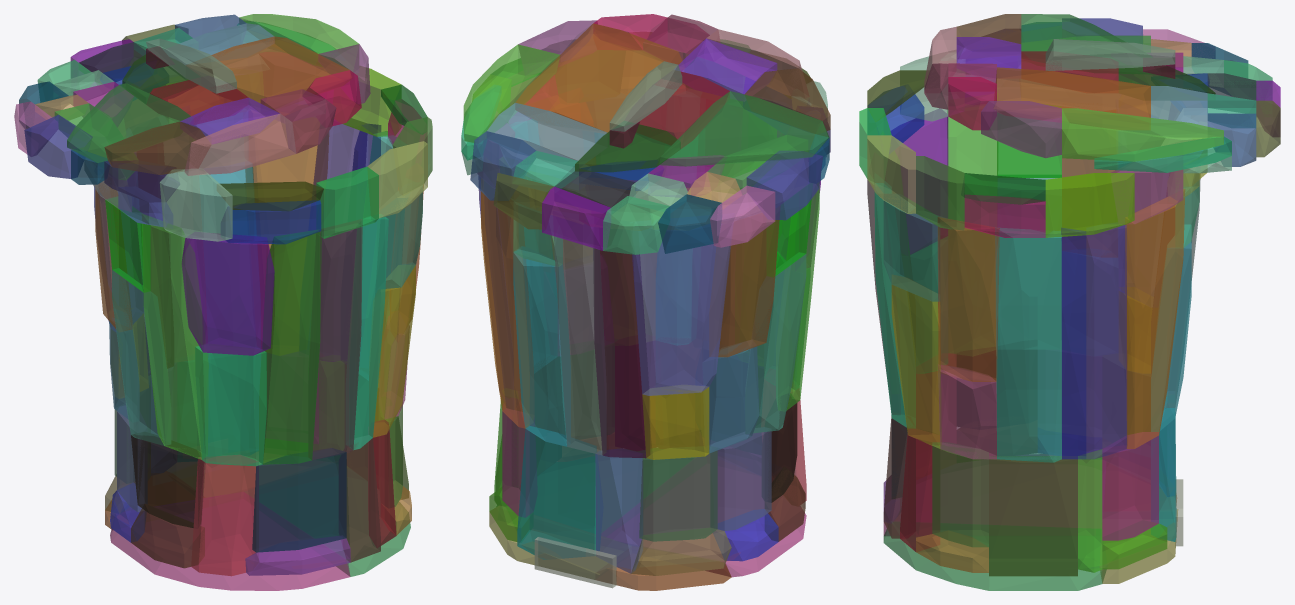
The picture shows the model from 3 angles, left to right: view 1: azimuth 30°, elevation 25°; view 2: azimuth 150°, elevation 25°; view 3: azimuth 270°, elevation 25°; orthographic projection. The views are drawn at different scales.
Parts seen in each view (by area): view 1: Shape_IndexedFaceSet.015, Shape_IndexedFaceSet.014, Shape_IndexedFaceSet.007, Shape_IndexedFaceSet.039, Shape_IndexedFaceSet.011, Shape_IndexedFaceSet.036, Shape_IndexedFaceSet.083, Shape_IndexedFaceSet.035, Shape_IndexedFaceSet.062, Shape_IndexedFaceSet.031, Shape_IndexedFaceSet.033, Shape_IndexedFaceSet.040 (+79 smaller); view 2: Shape_IndexedFaceSet.028, Shape_IndexedFaceSet.009, Shape_IndexedFaceSet.023, Shape_IndexedFaceSet.007, Shape_IndexedFaceSet.010, Shape_IndexedFaceSet.026, Shape_IndexedFaceSet.031, Shape_IndexedFaceSet.011, Shape_IndexedFaceSet.003, Shape_IndexedFaceSet.030, Shape_IndexedFaceSet.033, Shape_IndexedFaceSet.059 (+79 smaller); view 3: Shape_IndexedFaceSet.016, Shape_IndexedFaceSet.011, Shape_IndexedFaceSet.007, Shape_IndexedFaceSet.064, Shape_IndexedFaceSet.014, Shape_IndexedFaceSet.033, Shape_IndexedFaceSet.008, Shape_IndexedFaceSet.038, Shape_IndexedFaceSet.012, Shape_IndexedFaceSet.023, Shape_IndexedFaceSet.041, Shape_IndexedFaceSet.057 (+77 smaller).
Boxes of the visible parts, x1=… form: Shape_IndexedFaceSet.015: x1=259, y1=229, x2=321, y2=464; Shape_IndexedFaceSet.014: x1=142, y1=214, x2=208, y2=459; Shape_IndexedFaceSet.007: x1=110, y1=493, x2=350, y2=590; Shape_IndexedFaceSet.039: x1=308, y1=219, x2=362, y2=460; Shape_IndexedFaceSet.011: x1=245, y1=110, x2=328, y2=355; Shape_IndexedFaceSet.036: x1=181, y1=232, x2=274, y2=355; Shape_IndexedFaceSet.083: x1=252, y1=448, x2=346, y2=552; Shape_IndexedFaceSet.035: x1=195, y1=344, x2=266, y2=466; Shape_IndexedFaceSet.062: x1=191, y1=455, x2=258, y2=576; Shape_IndexedFaceSet.031: x1=199, y1=162, x2=259, y2=354; Shape_IndexedFaceSet.033: x1=112, y1=268, x2=170, y2=445; Shape_IndexedFaceSet.040: x1=346, y1=214, x2=388, y2=449; Shape_IndexedFaceSet.028: x1=632, y1=224, x2=730, y2=395; Shape_IndexedFaceSet.009: x1=593, y1=228, x2=649, y2=458; Shape_IndexedFaceSet.023: x1=515, y1=23, x2=684, y2=133; Shape_IndexedFaceSet.007: x1=607, y1=455, x2=806, y2=577; Shape_IndexedFaceSet.010: x1=553, y1=216, x2=606, y2=455; Shape_IndexedFaceSet.026: x1=517, y1=426, x2=602, y2=559; Shape_IndexedFaceSet.031: x1=513, y1=247, x2=570, y2=446; Shape_IndexedFaceSet.011: x1=481, y1=179, x2=533, y2=428; Shape_IndexedFaceSet.003: x1=657, y1=91, x2=829, y2=166; Shape_IndexedFaceSet.030: x1=709, y1=207, x2=779, y2=357; Shape_IndexedFaceSet.033: x1=745, y1=254, x2=806, y2=433; Shape_IndexedFaceSet.059: x1=639, y1=447, x2=717, y2=541; Shape_IndexedFaceSet.016: x1=995, y1=227, x2=1061, y2=462; Shape_IndexedFaceSet.011: x1=1125, y1=189, x2=1184, y2=448; Shape_IndexedFaceSet.007: x1=883, y1=454, x2=1101, y2=535; Shape_IndexedFaceSet.064: x1=989, y1=456, x2=1077, y2=576; Shape_IndexedFaceSet.014: x1=947, y1=106, x2=998, y2=353; Shape_IndexedFaceSet.033: x1=998, y1=175, x2=1061, y2=348; Shape_IndexedFaceSet.008: x1=883, y1=522, x2=1106, y2=590; Shape_IndexedFaceSet.038: x1=938, y1=217, x2=999, y2=381; Shape_IndexedFaceSet.012: x1=1086, y1=223, x2=1127, y2=459; Shape_IndexedFaceSet.023: x1=993, y1=67, x2=1150, y2=129; Shape_IndexedFaceSet.041: x1=891, y1=275, x2=941, y2=448; Shape_IndexedFaceSet.057: x1=1062, y1=108, x2=1223, y2=161.
Bounding box in the file's own units: 0.5141 × 0.6855 × 0.557.
